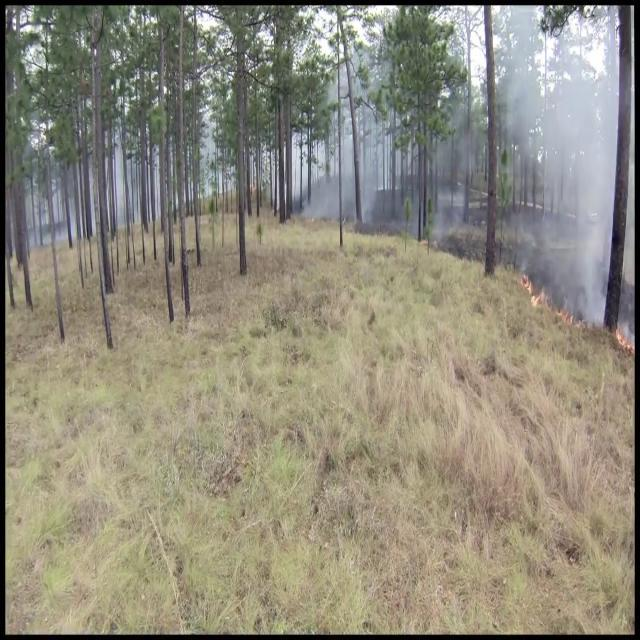Smoke: (514, 7, 628, 324), (311, 45, 400, 216)
